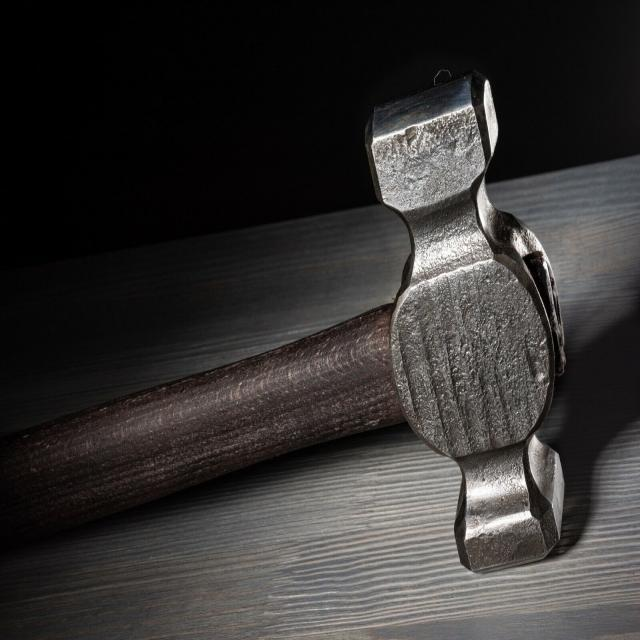hammer: (0, 56, 569, 597)
